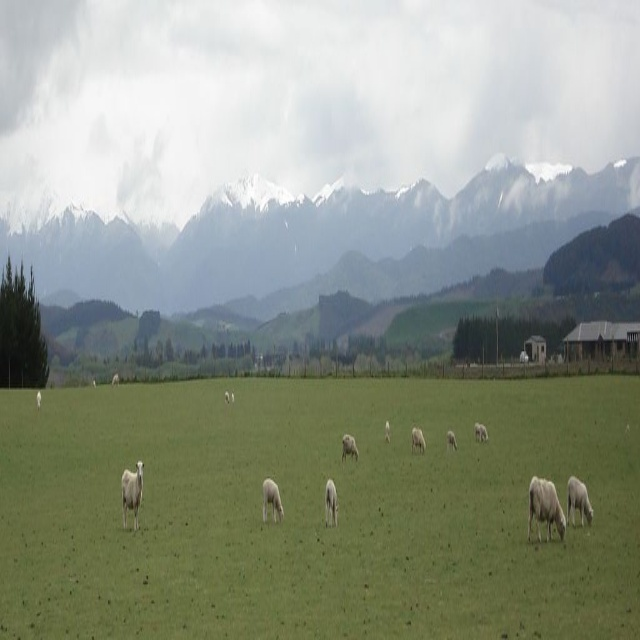Sheep: (528, 482, 564, 543), (122, 458, 143, 536), (567, 479, 594, 532), (263, 477, 285, 530), (327, 482, 338, 530), (411, 429, 425, 456), (343, 431, 358, 456), (448, 431, 458, 452), (480, 427, 488, 445), (476, 419, 479, 438)
